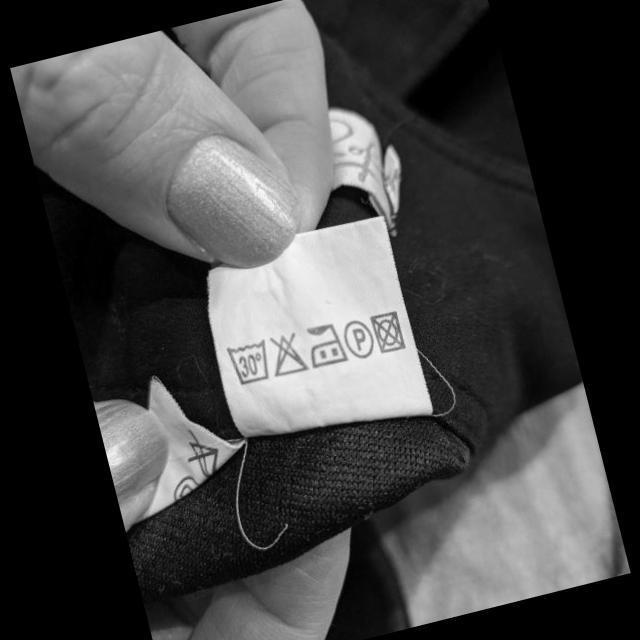30C: (222, 333, 276, 390)
DN_bleach: (263, 328, 311, 380)
DN_tumble_dry: (367, 306, 408, 358)
iron_medium: (301, 316, 351, 373)
normal_dry_clean_solvents: (338, 313, 380, 363)
